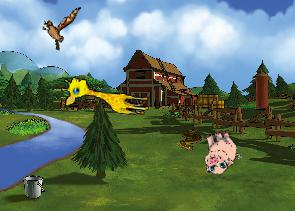eagle: (38, 1, 81, 53)
giraffe: (59, 75, 152, 116)
pig: (195, 126, 243, 176)
